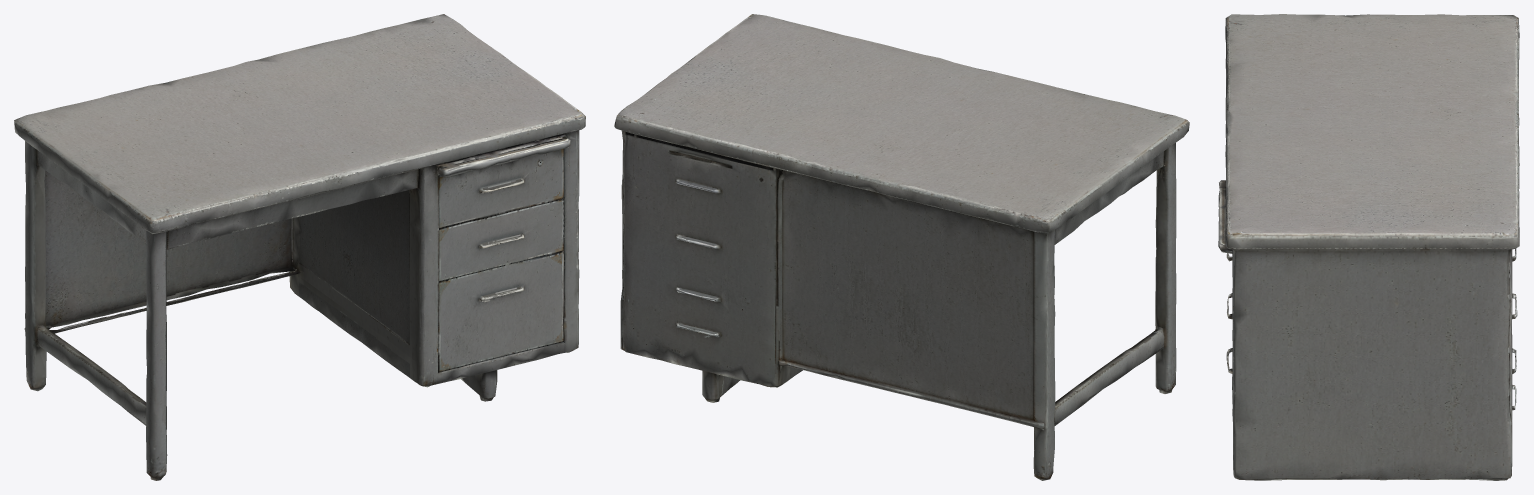
File: office_desk.glb
3 renders of one model, left to right at view 1: azimuth 30°, elevation 25°; view 2: azimuth 150°, elevation 25°; view 3: azimuth 270°, elevation 25°, orthographic. The views are drawn at different scales.
Parts seen in each view (by area): view 1: texture_mapping; view 2: texture_mapping; view 3: texture_mapping.
Part boxes in pixels (<box>): texture_mapping: <box>14,14,585,480</box>; texture_mapping: <box>614,14,1189,480</box>; texture_mapping: <box>1218,14,1519,480</box>.
Bounding box in the file's own units: 0.9984 × 0.5949 × 0.5718.
Materials: 1 (1 with a texture image).
